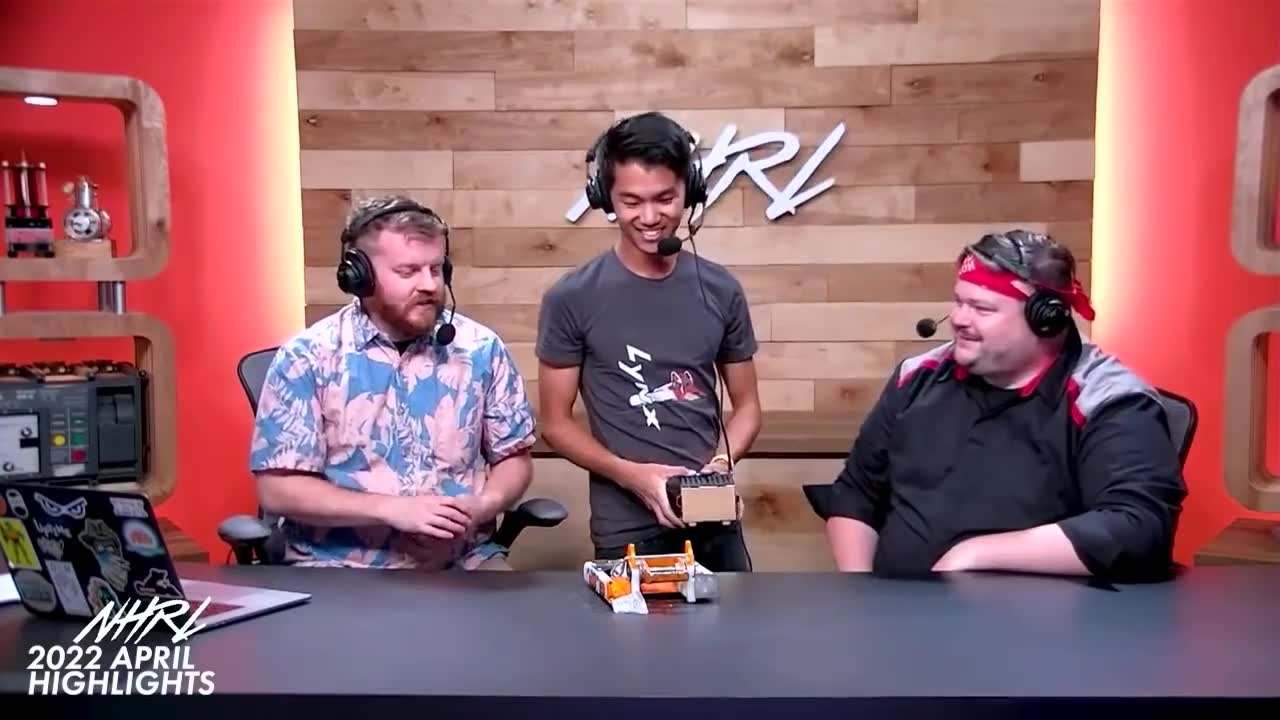combatbot: (581, 537, 718, 615)
